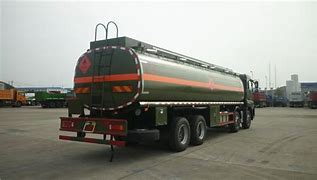oil truck: (60, 20, 263, 156)
